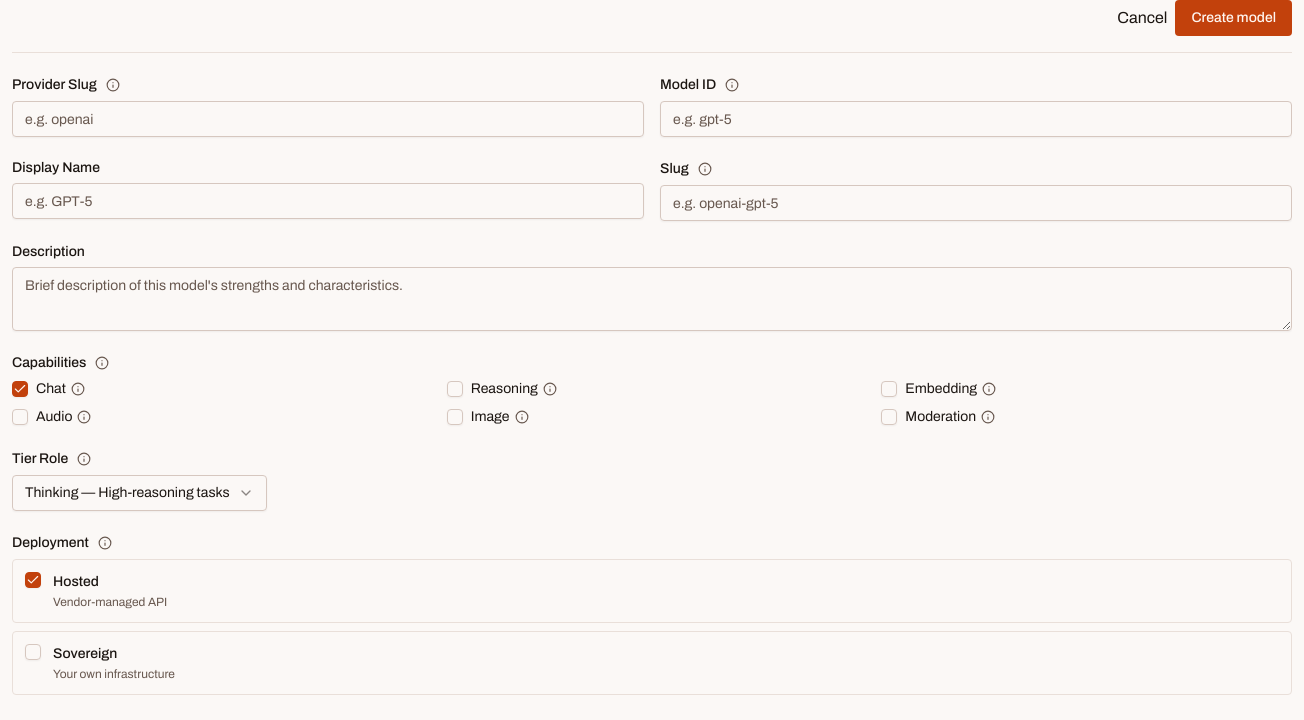
Scenario: ProviderModelForm › shows embedding details section when Embedding checkbox is checked
This screenshot has width=1304, height=720.
Check: the text "Embedding Details" is not shown
Click the checkbox named "embedding" next to "Embedding" at {"x": 889, "y": 389}, box [881, 381, 897, 397]
(page scrolled)
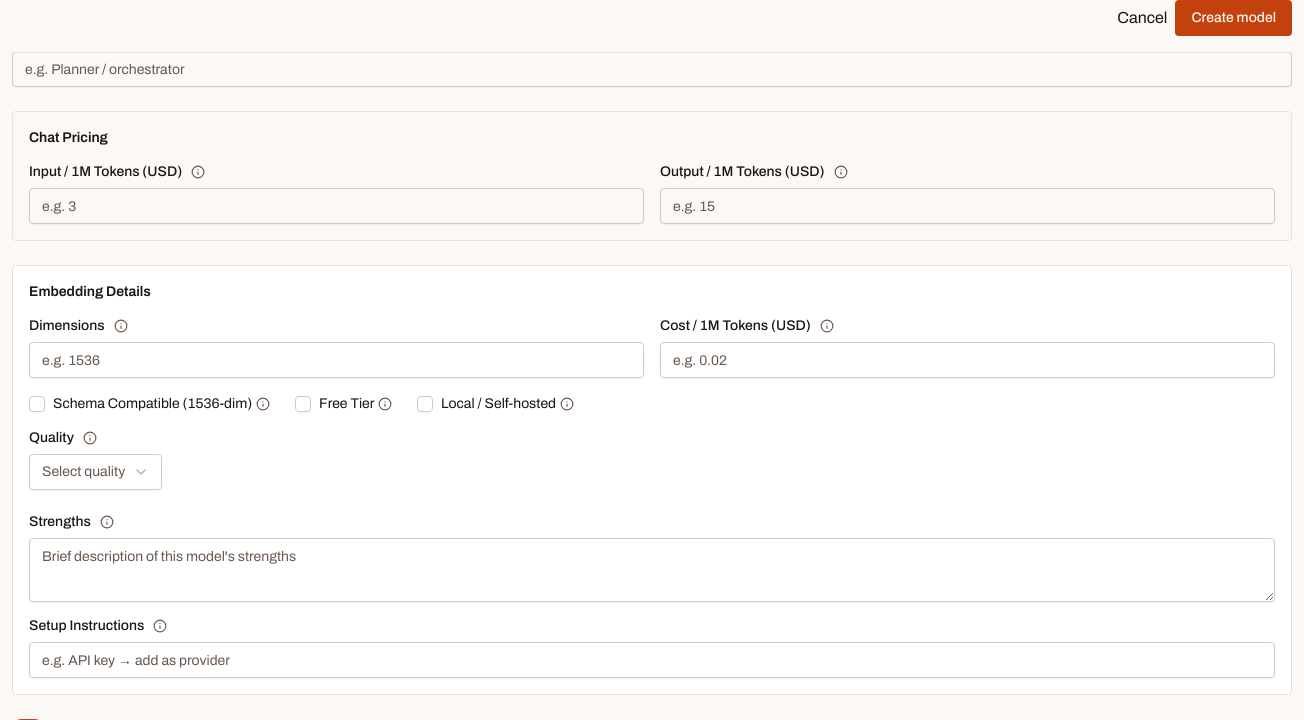
Check: the heading "Embedding Details" is shown, box [29, 284, 151, 299]
Check: the field with placeholder "e.g. 1536" is shown, box [29, 342, 644, 378]
